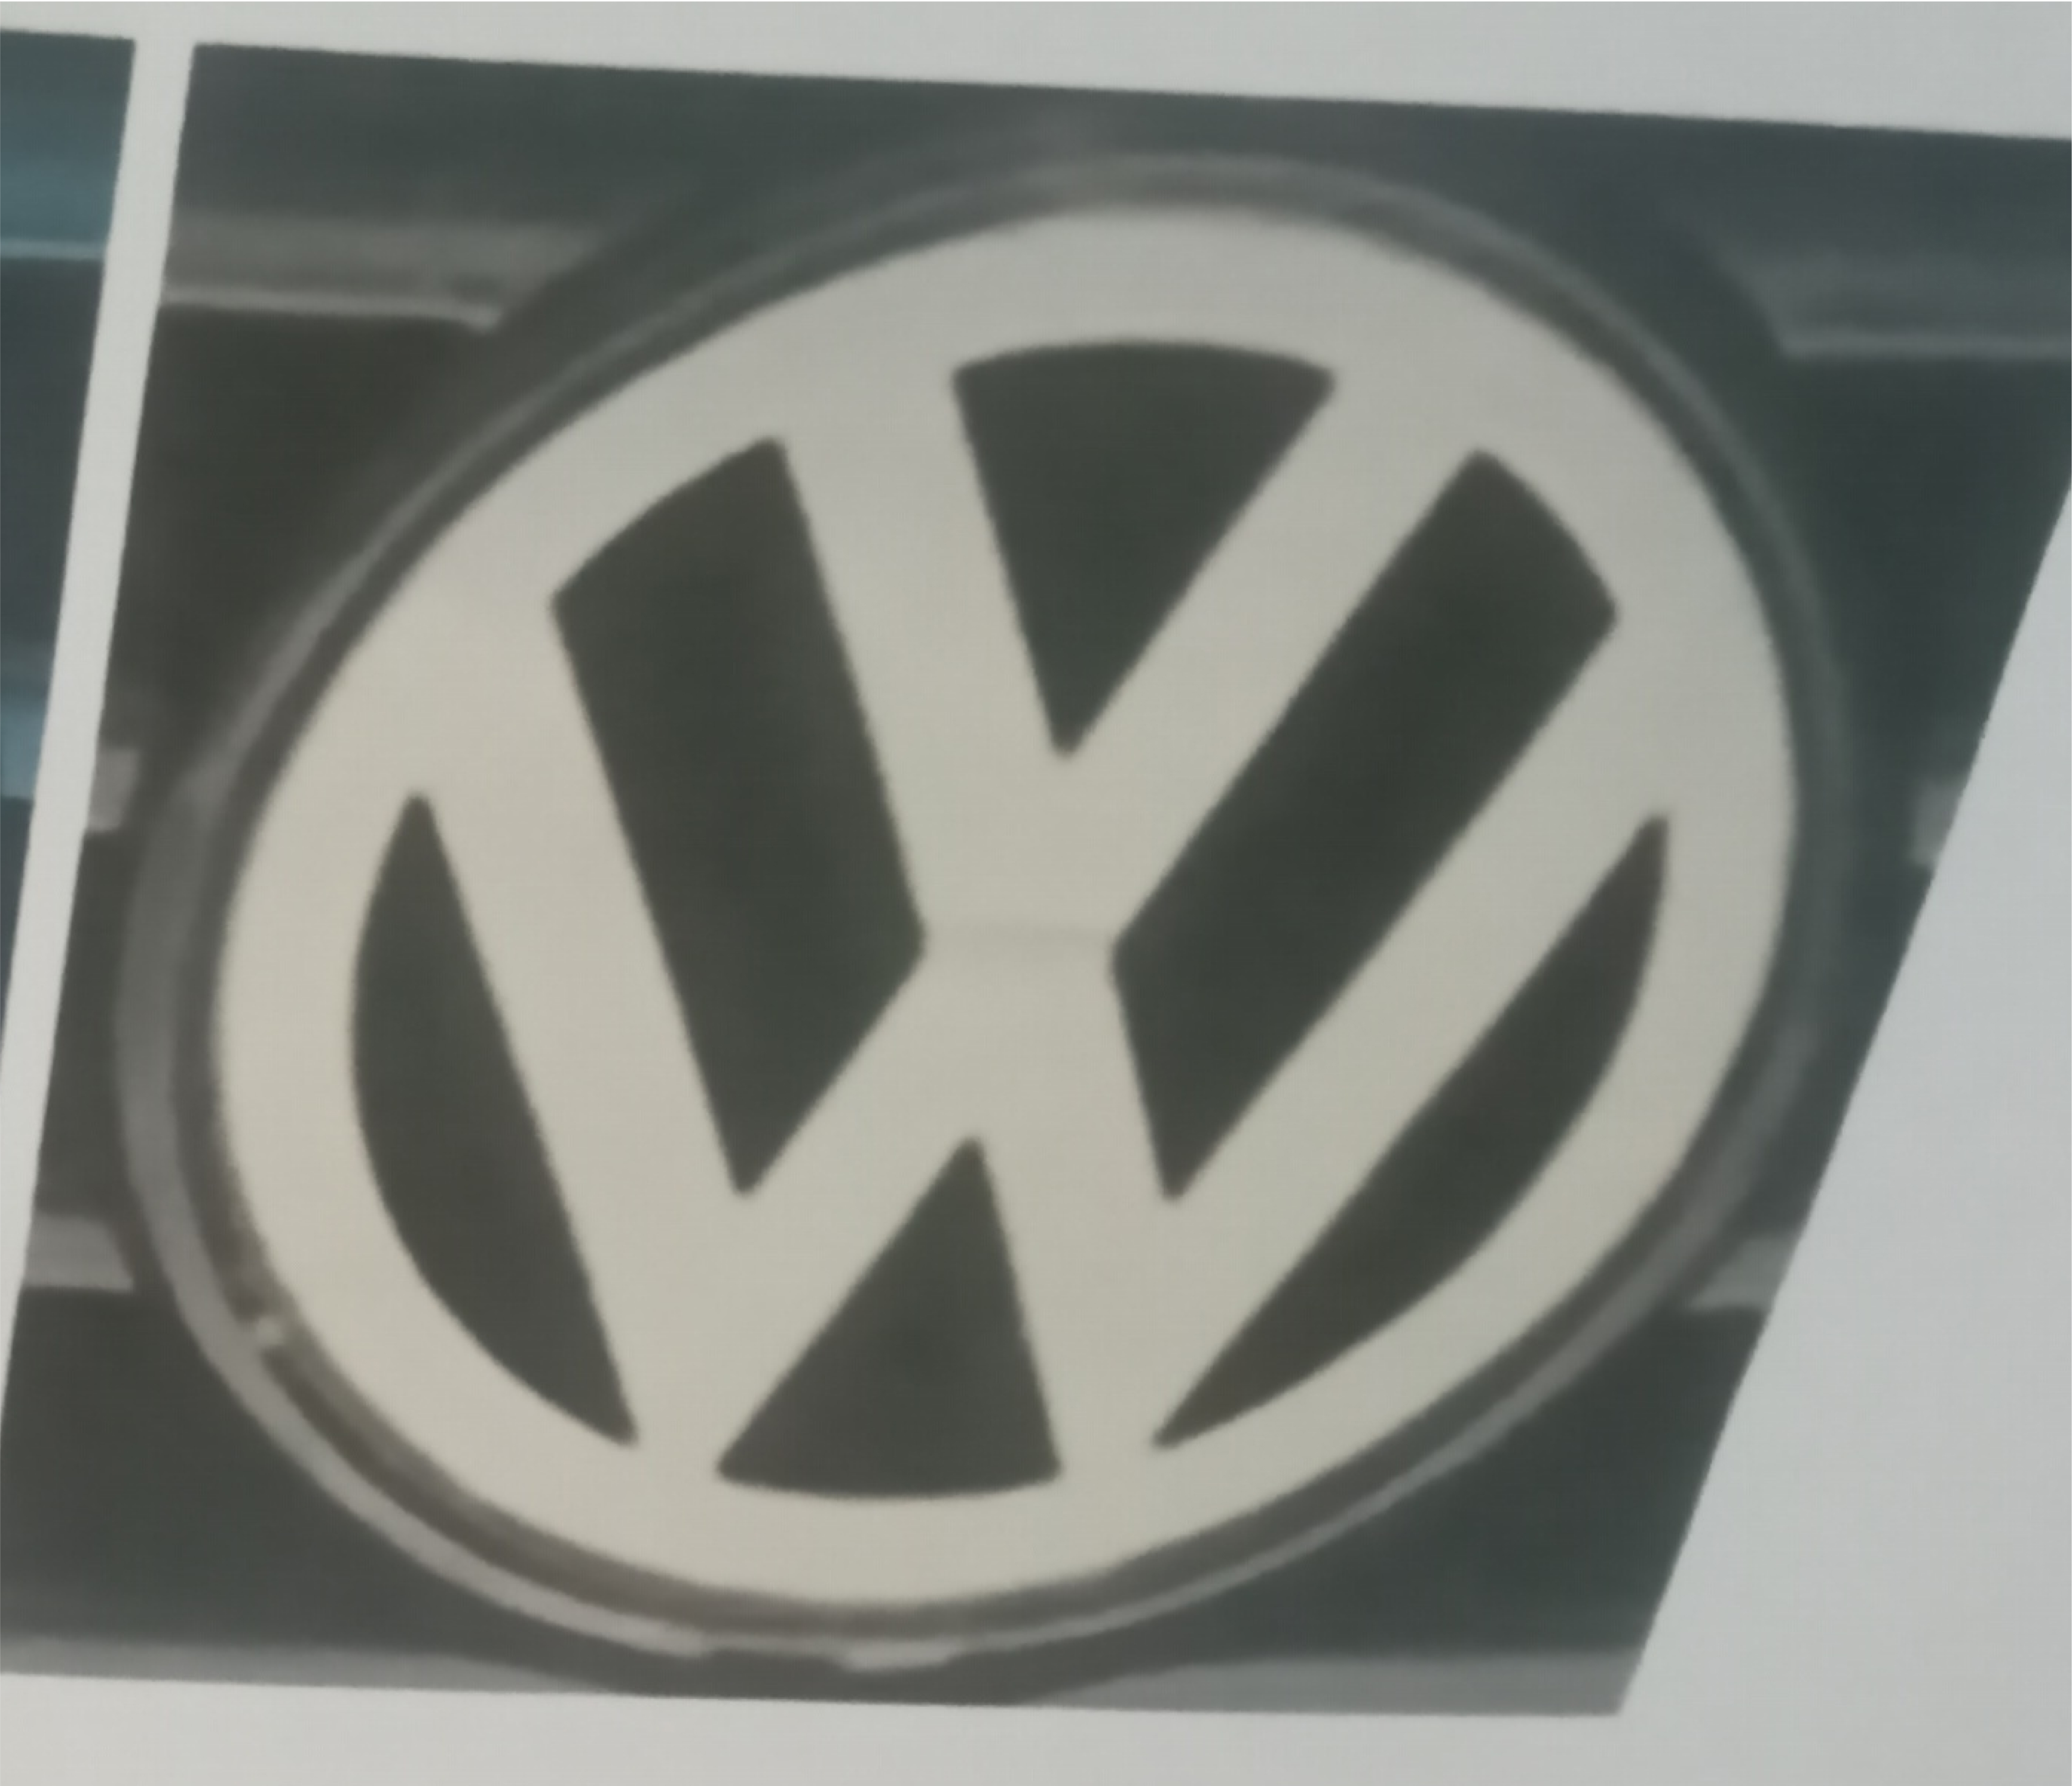Volkswagen: (139, 129, 1873, 1691)
